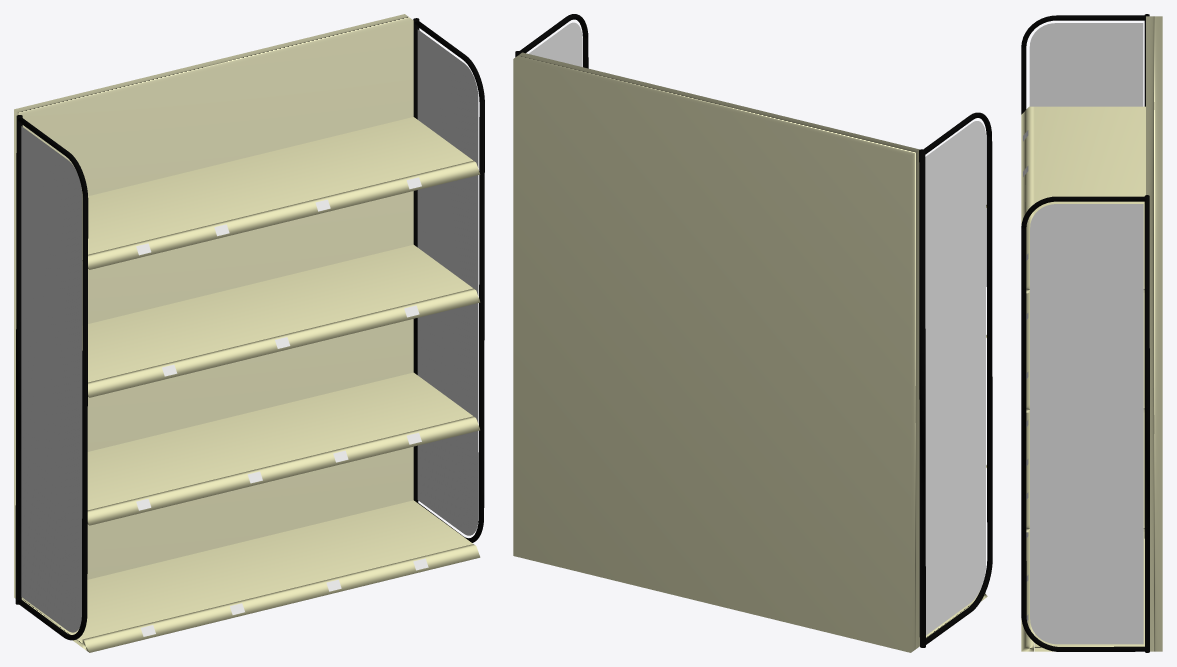
Rendered from Shelf_V5.glb.
The picture shows the model from 3 angles, left to right: view 1: azimuth 30°, elevation 25°; view 2: azimuth 150°, elevation 25°; view 3: azimuth 270°, elevation 25°; orthographic projection. The views are drawn at different scales.
Visible parts, largest first — view 1: Back board, Panel2, Panel, Main, Main.003, Main.001, Main.002, Slope.002, Slope.001, Slope.003, Slope, Curved_Edged2 (+3 smaller); view 2: Back board, Panel2, Curved_Edged2, Edge2, Panel, Curved_Edge; view 3: Panel, Main.003, Panel2, Back board, Curved_Edge, Edge, Slope.003, Curved_Edged2, Main, Slope, Slope.002, Slope.001 (+2 smaller).
Part boxes in pixels (x1,y1,x2,y2): Back board: [14, 14, 413, 600]; Panel2: [21, 126, 82, 632]; Panel: [417, 29, 478, 535]; Main: [23, 500, 472, 647]; Main.003: [82, 117, 472, 263]; Main.001: [87, 372, 472, 510]; Main.002: [82, 244, 472, 382]; Slope.002: [88, 288, 480, 397]; Slope.001: [87, 416, 479, 525]; Slope.003: [88, 160, 480, 269]; Slope: [82, 544, 480, 652]; Curved_Edged2: [17, 117, 88, 640]; Back board: [513, 52, 919, 652]; Panel2: [925, 121, 985, 635]; Curved_Edged2: [923, 112, 992, 644]; Edge2: [919, 149, 925, 647]; Panel: [528, 22, 582, 66]; Curved_Edge: [520, 14, 588, 68]; Panel: [1030, 204, 1143, 644]; Main.003: [1034, 106, 1145, 292]; Panel2: [1029, 23, 1143, 106]; Back board: [1146, 16, 1162, 651]; Curved_Edge: [1021, 196, 1146, 651]; Edge: [1144, 195, 1149, 652]; Slope.003: [1021, 106, 1034, 293]; Curved_Edged2: [1021, 15, 1145, 114]; Main: [1034, 532, 1144, 651]; Slope: [1021, 532, 1033, 651]; Slope.002: [1026, 293, 1029, 412]; Slope.001: [1026, 412, 1029, 532].
Bounding box in the file's own units: 1.65 × 1.91 × 0.5367.
